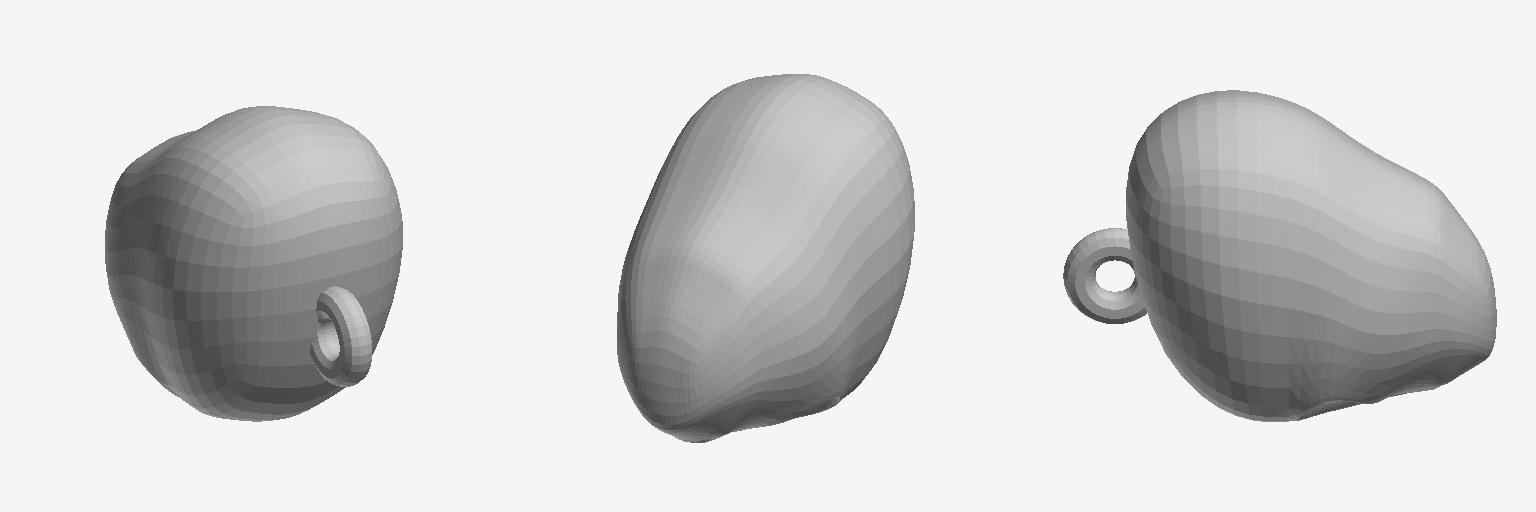
The model's file is 21454_Alien_Head_V1.obj.
3 renders of one model, left to right at view 1: azimuth 30°, elevation 25°; view 2: azimuth 150°, elevation 25°; view 3: azimuth 270°, elevation 25°, orthographic.
Parts seen in each view (by area): view 1: 21454_Alien_Head_V1; view 2: 21454_Alien_Head_V1; view 3: 21454_Alien_Head_V1.
Boxes of the visible parts, x1,y1,x2,y2 form: 21454_Alien_Head_V1: [105, 106, 402, 421]; 21454_Alien_Head_V1: [617, 74, 914, 442]; 21454_Alien_Head_V1: [1063, 90, 1496, 421].
Size of the model in its own units: 1.92 by 2.5 by 3.18.